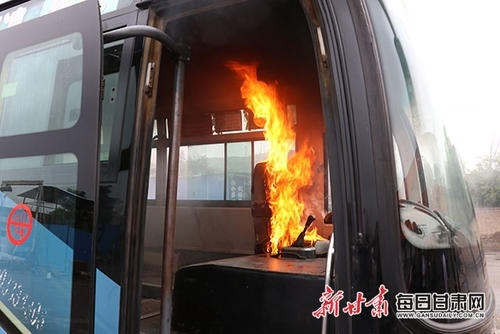fire: (238, 58, 323, 252)
